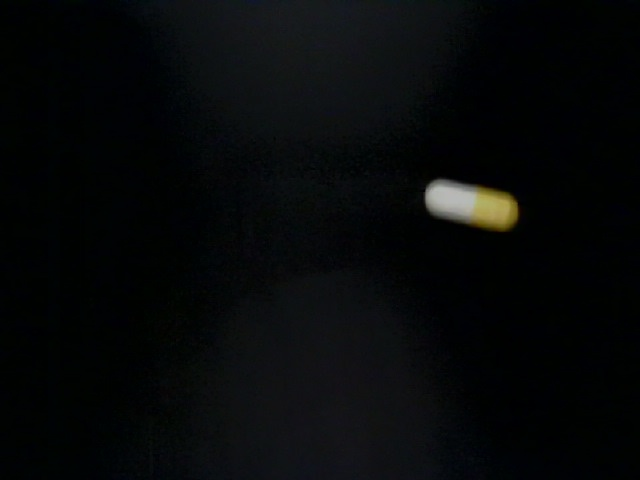YHLJ: (135, 400, 396, 480)
